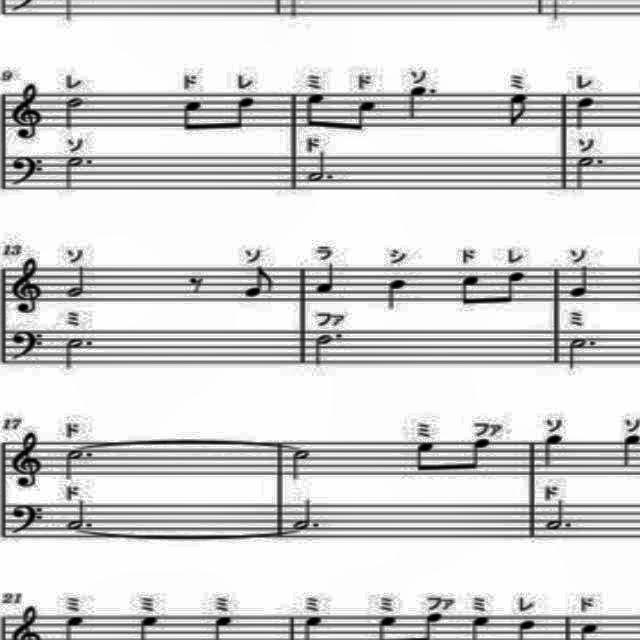Bass-clef: (8, 153, 48, 189), (9, 502, 47, 538), (8, 328, 44, 364)
Eighth-note: (222, 90, 258, 130), (240, 263, 276, 301), (412, 439, 448, 476), (506, 91, 536, 135), (459, 271, 487, 313), (496, 270, 528, 306), (180, 96, 206, 138), (466, 436, 494, 472)
Eighth-rest: (183, 268, 209, 296)
Half-dot: (568, 153, 608, 195), (401, 81, 441, 123), (564, 330, 600, 374), (311, 328, 349, 368), (288, 492, 324, 532), (59, 156, 97, 192), (303, 148, 337, 188), (62, 334, 98, 370), (62, 444, 94, 484), (543, 497, 573, 535), (62, 500, 94, 532)
Half-note: (65, 263, 91, 301), (61, 95, 87, 128), (290, 448, 310, 488)
Quarter-note: (304, 91, 380, 133), (539, 432, 569, 470), (574, 95, 602, 131), (568, 264, 596, 300), (386, 276, 412, 314), (312, 261, 340, 295), (619, 430, 640, 469), (639, 430, 640, 469)
Treble-clef: (5, 252, 53, 316), (10, 80, 52, 142), (9, 428, 47, 488)
